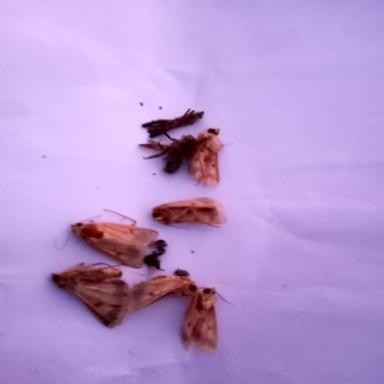abw: (42, 207, 162, 268), (49, 256, 130, 329), (122, 259, 205, 324), (176, 284, 231, 354), (185, 125, 232, 188), (147, 198, 237, 230)
